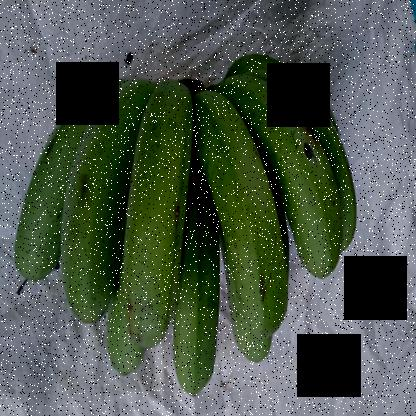unripe: (185, 85, 293, 350), (217, 69, 340, 288), (56, 62, 150, 336), (112, 66, 197, 350), (168, 178, 218, 412)
